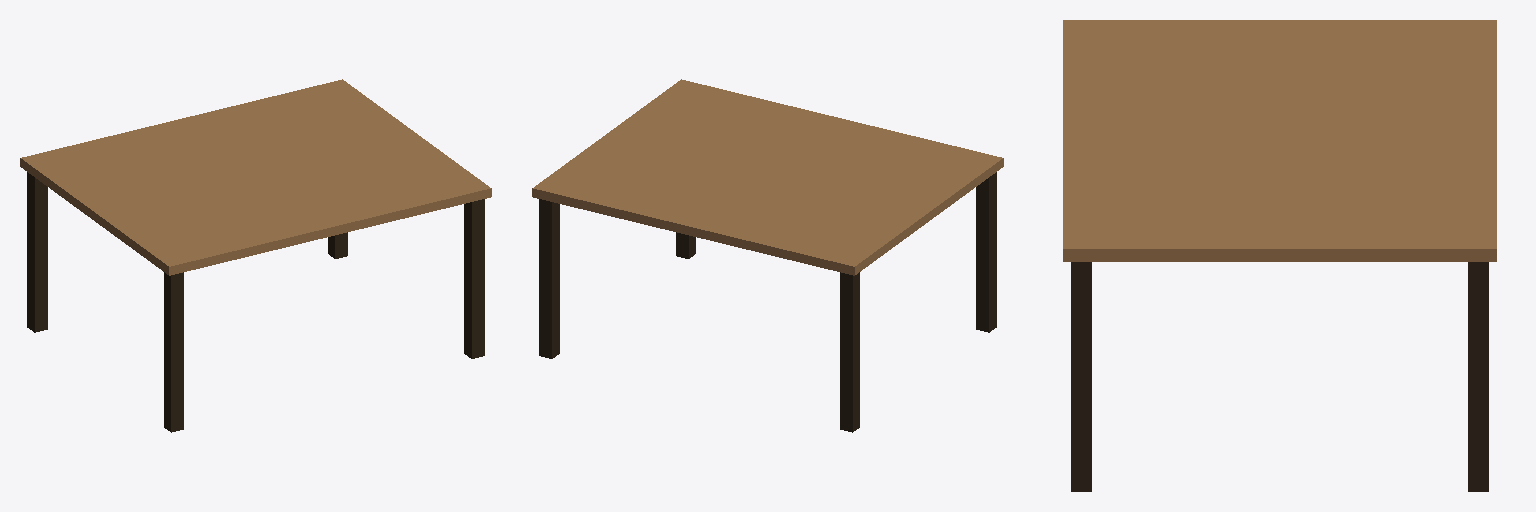
The robot description file, URDF, robot "table":
<?xml version="1.0"?>
<!-- A table, 1.5 x 1.2 m and 0.75 m high. Its frame is the centre of its footprint on the floor. -->
<robot name="table">
  <material name="wood"><color rgba="0.65 0.5 0.35 1" /></material>
  <material name="dark_wood"><color rgba="0.25 0.2 0.15 1" /></material>
  <link name="table">
    <visual>
      <origin xyz="0 0 0.73" />
      <geometry><box size="1.5 1.2 0.04" /></geometry>
      <material name="wood" />
    </visual>
    <collision>
      <origin xyz="0 0 0.73" />
      <geometry><box size="1.5 1.2 0.04" /></geometry>
    </collision>
    <visual>
      <origin xyz="0.7 0.55 0.355" />
      <geometry><box size="0.06 0.06 0.71" /></geometry>
      <material name="dark_wood" />
    </visual>
    <collision>
      <origin xyz="0.7 0.55 0.355" />
      <geometry><box size="0.06 0.06 0.71" /></geometry>
    </collision>
    <visual>
      <origin xyz="0.7 -0.55 0.355" />
      <geometry><box size="0.06 0.06 0.71" /></geometry>
      <material name="dark_wood" />
    </visual>
    <collision>
      <origin xyz="0.7 -0.55 0.355" />
      <geometry><box size="0.06 0.06 0.71" /></geometry>
    </collision>
    <visual>
      <origin xyz="-0.7 0.55 0.355" />
      <geometry><box size="0.06 0.06 0.71" /></geometry>
      <material name="dark_wood" />
    </visual>
    <collision>
      <origin xyz="-0.7 0.55 0.355" />
      <geometry><box size="0.06 0.06 0.71" /></geometry>
    </collision>
    <visual>
      <origin xyz="-0.7 -0.55 0.355" />
      <geometry><box size="0.06 0.06 0.71" /></geometry>
      <material name="dark_wood" />
    </visual>
    <collision>
      <origin xyz="-0.7 -0.55 0.355" />
      <geometry><box size="0.06 0.06 0.71" /></geometry>
    </collision>
  </link>
</robot>

--- What the picture shows (computed from the rendered views, not written in the file) ---
The picture shows the robot from 3 angles, left to right: view 1: azimuth 30°, elevation 25°; view 2: azimuth 150°, elevation 25°; view 3: azimuth 270°, elevation 25°; orthographic projection.
Robot: table — 1 links, 0 joints (none); root link table; default pose: all joints at 0.
Links seen in each view (by area): view 1: table; view 2: table; view 3: table.
Boxes of the visible links, x1,y1,x2,y2 form: table: [20, 79, 491, 432]; table: [532, 79, 1003, 432]; table: [1063, 20, 1496, 491].
Size in the robot's own frame: 1.5 by 1.2 by 0.75 metres.
Geometry: primitives only (box / cylinder / sphere), no mesh files.
